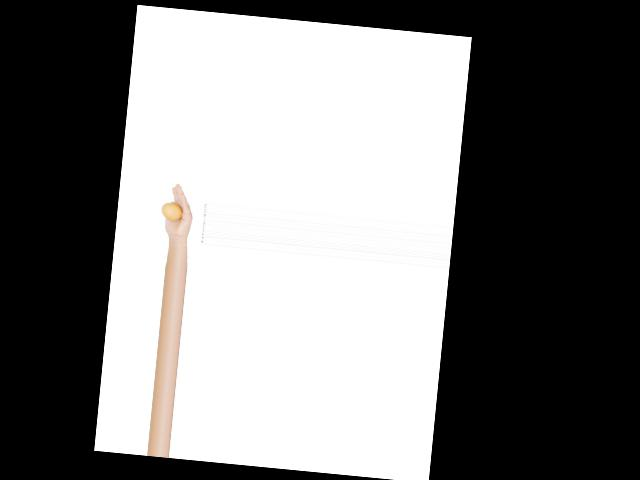egg: (160, 201, 183, 221)
